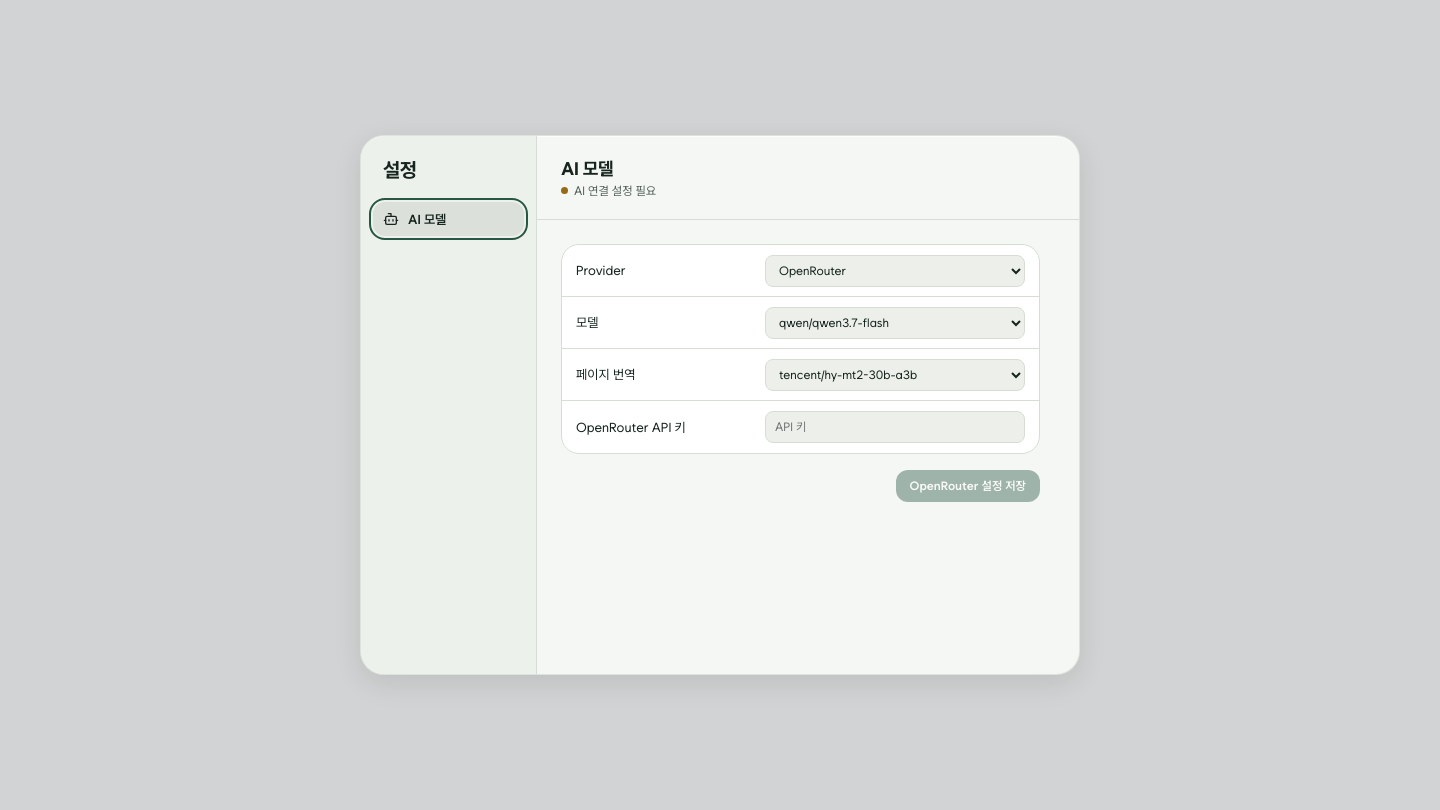
Test: SettingsModal › locks first run to AI provider setup without a close button
Expected: the text "AI 연결 설정 필요" is shown, 561,184 -> 656,198
Expected: the button "OpenRouter 설정 저장" is disabled, 896,470 -> 1040,502
Type "sk-or-user-owned-key-at-least-twenty-characters" into the password field labelled "OpenRouter API 키" at [895, 427], box 765,411 -> 1025,443
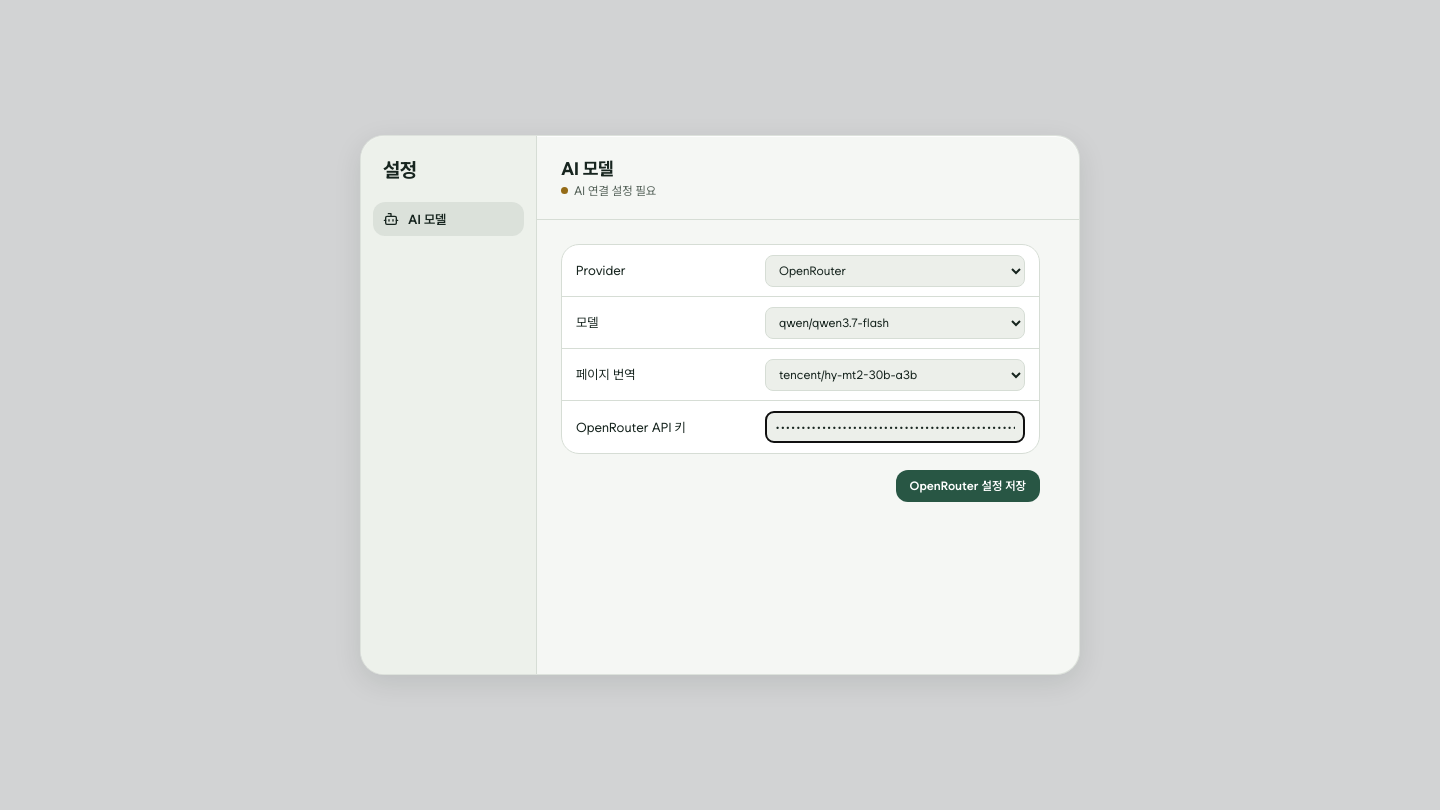
Click the button "OpenRouter 설정 저장" at [968, 486], box 896,470 -> 1040,502
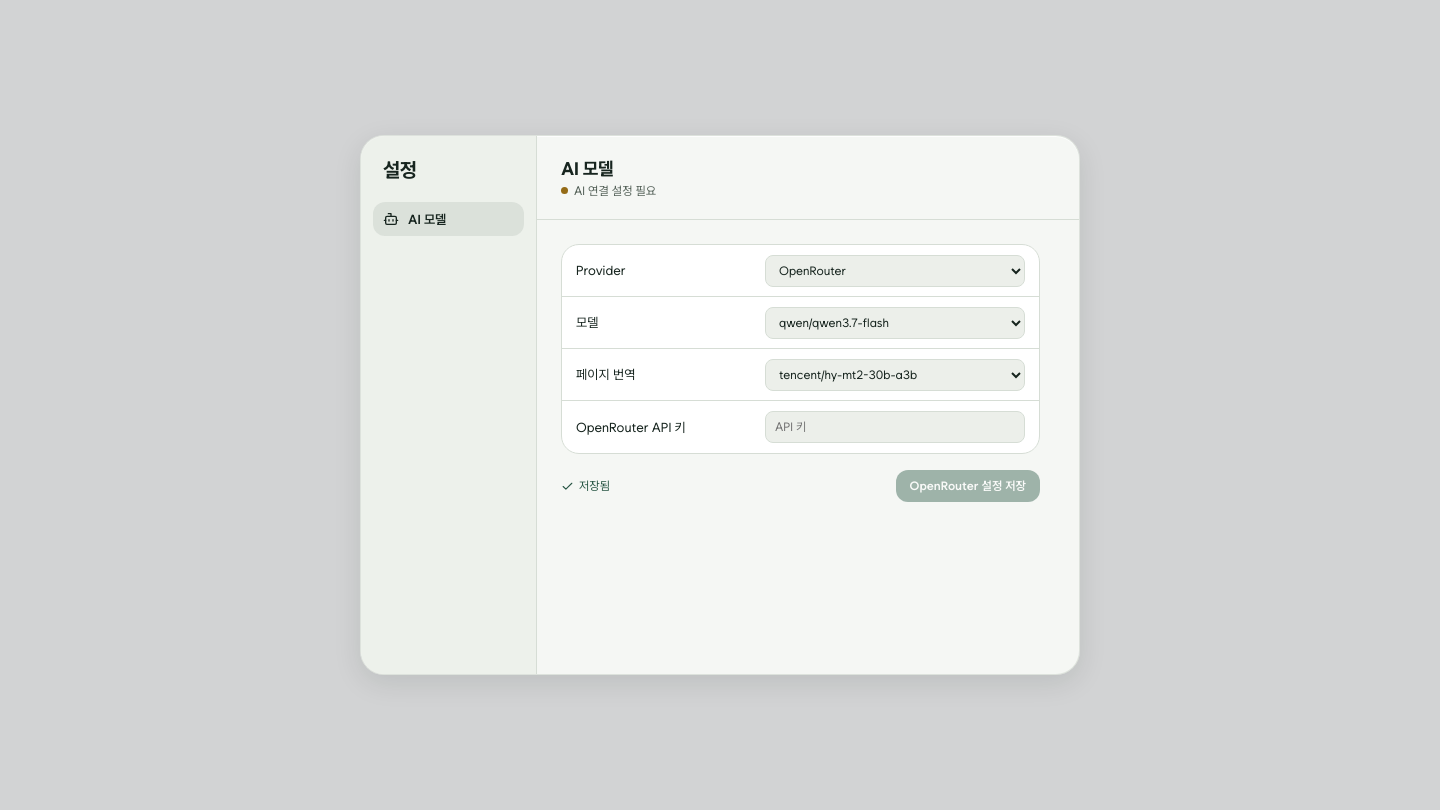
Expected: the text "저장됨" is shown, 561,479 -> 610,493
